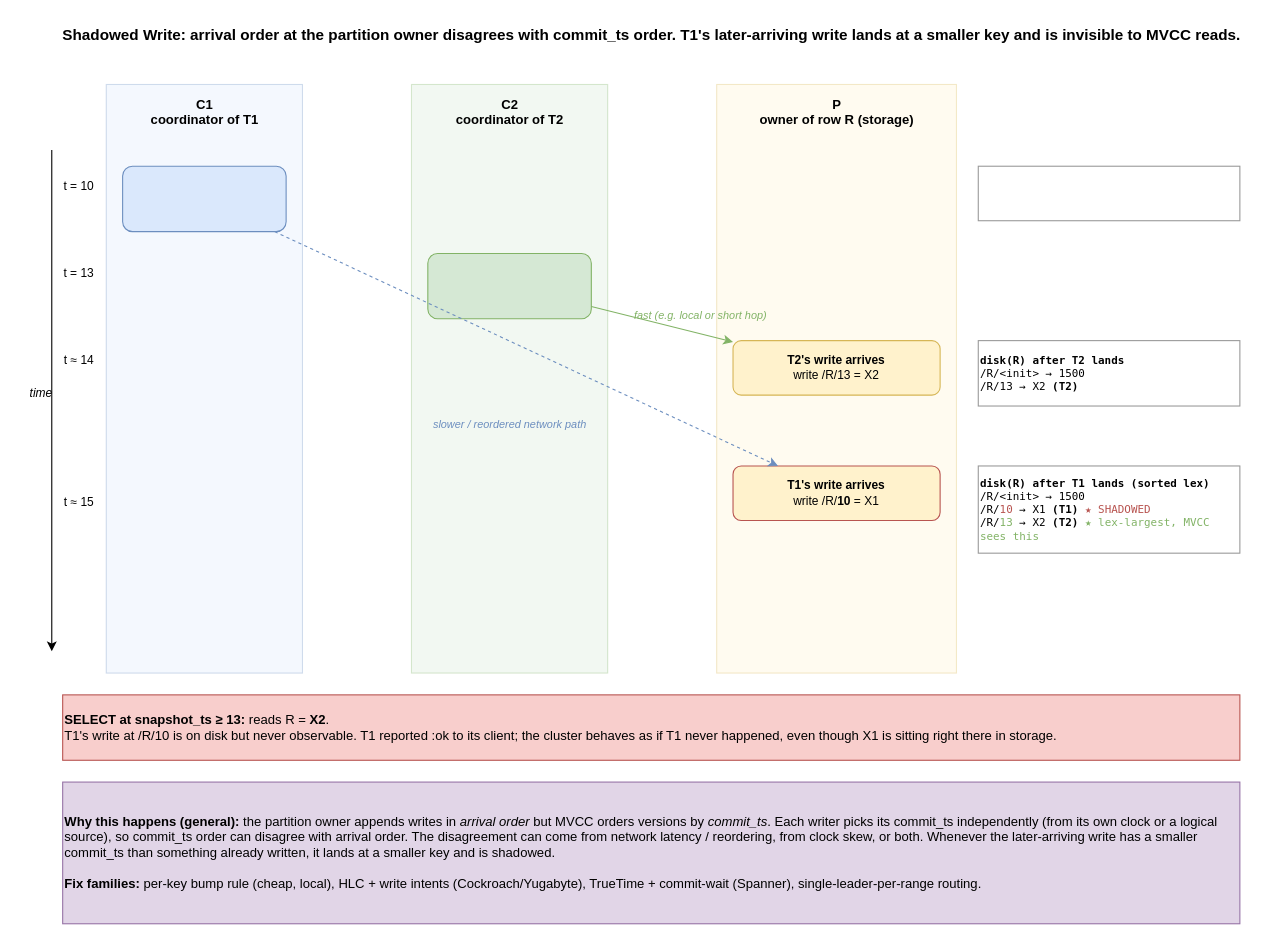
This 1280x943 diagram has some shape labels left out. The shapes that lost their labels are listed below. From the top down, each one's box as (x1, y1, x2, y2) in pixels, then its label:
(122, 165, 286, 232): T1 commits commit_ts = 10 send write(R = X1) → P
(977, 165, 1240, 221): disk(R) before /R/<init> → 1500
(427, 252, 591, 319): T2 commits commit_ts = 13 send write(R = X2) → P
